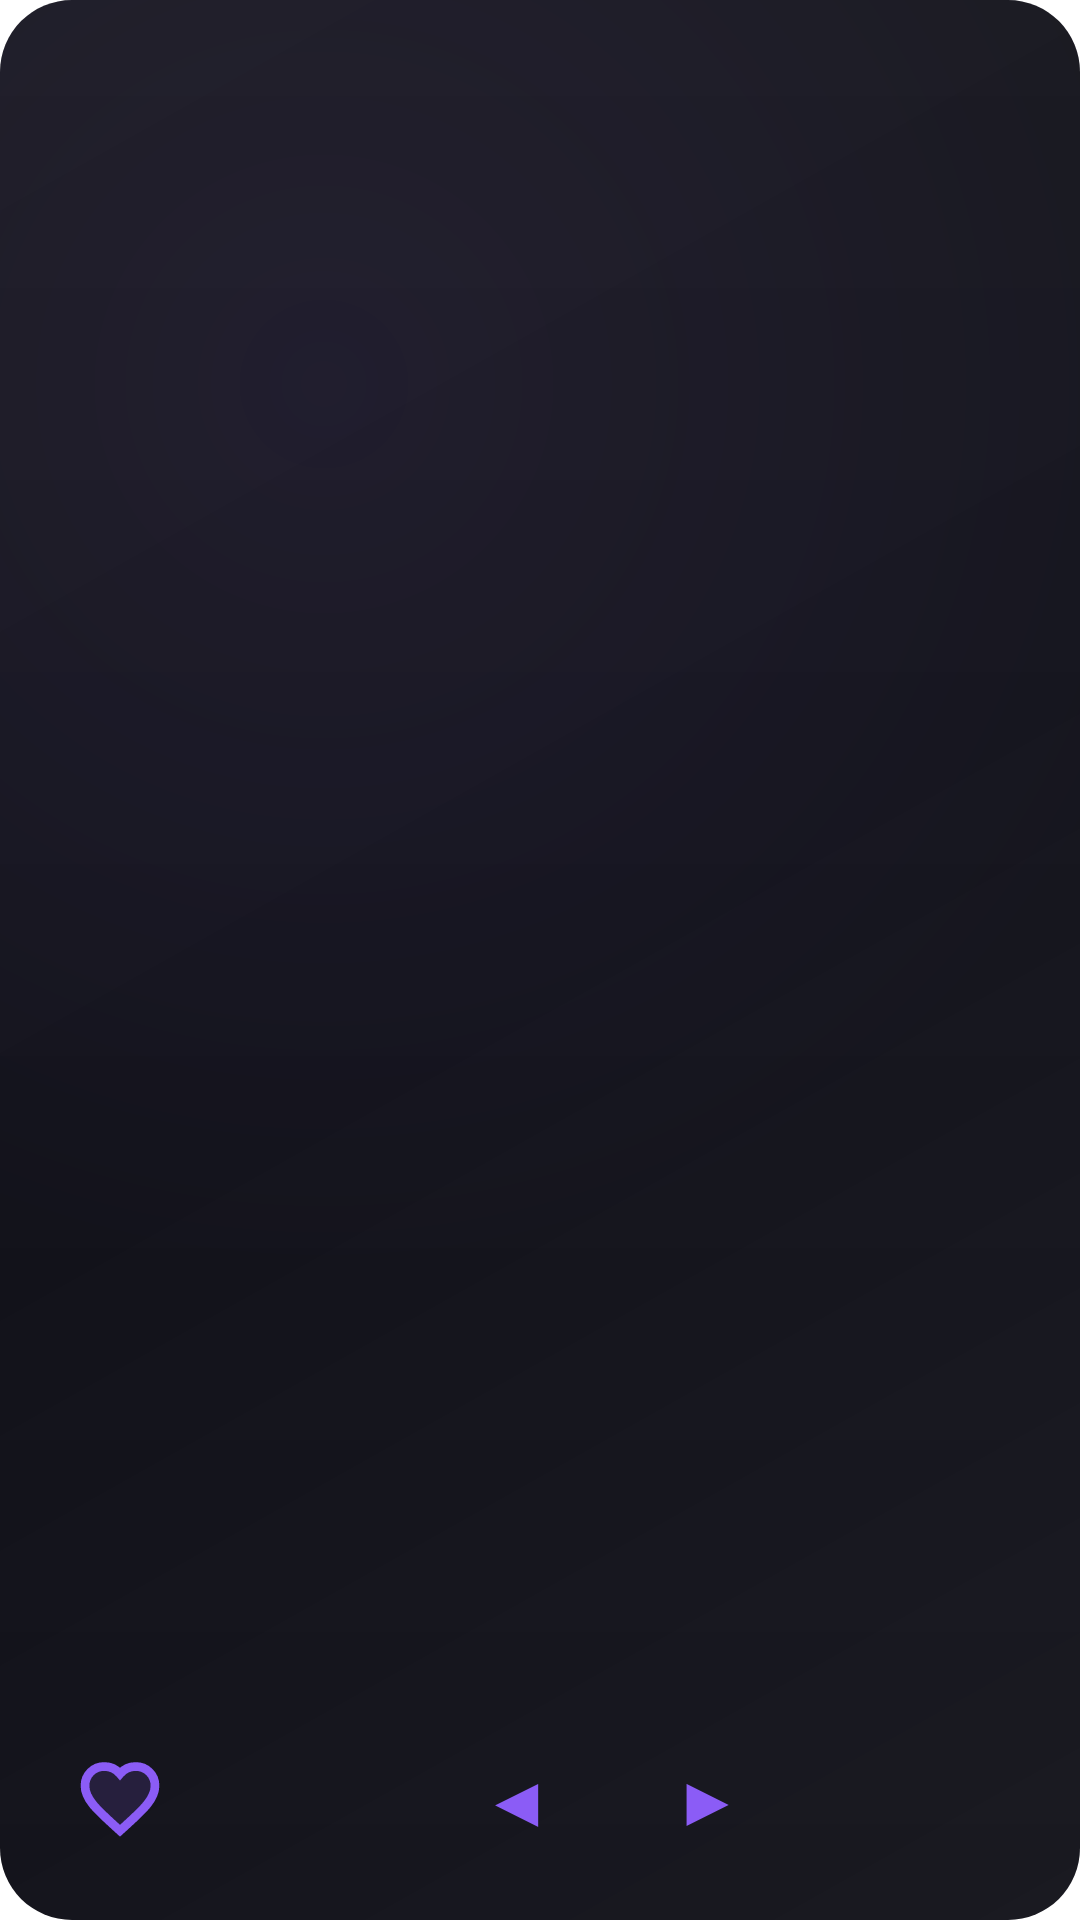

Named icons in this screenshot (1080 × 1920) and their bounding boxes, (x1, y1, x2, y2):
Save to favorites: (80, 1762, 160, 1837)
